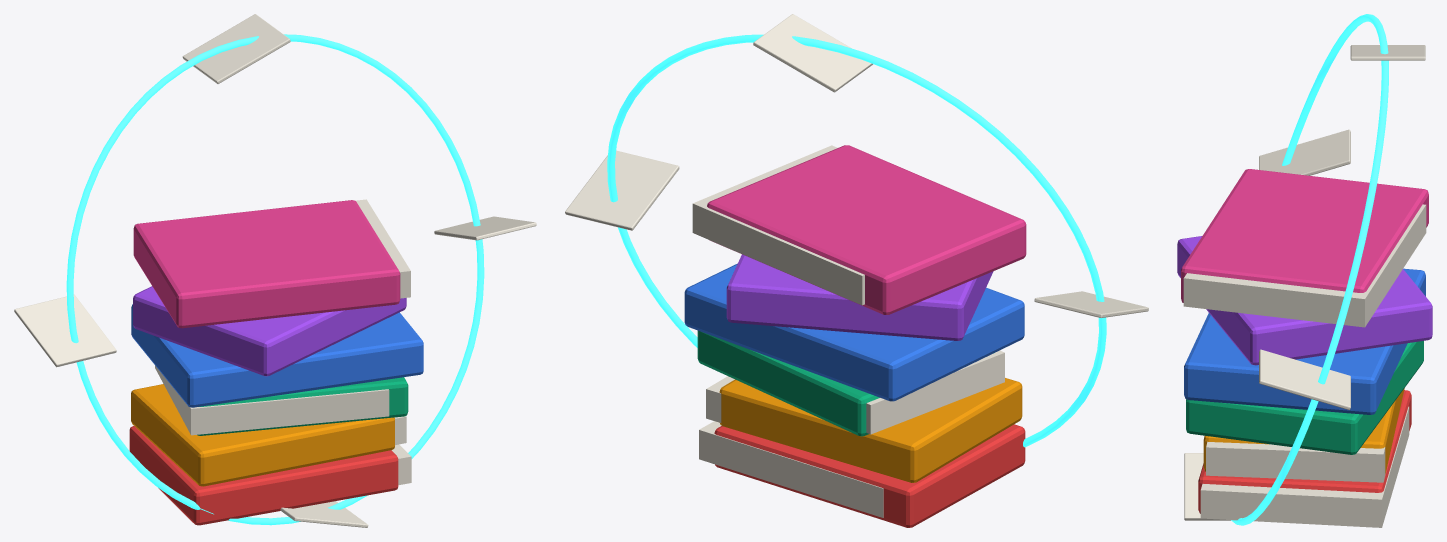
The model's file is ragg.glb.
3 renders of one model, left to right at view 1: azimuth 30°, elevation 25°; view 2: azimuth 150°, elevation 25°; view 3: azimuth 270°, elevation 25°, orthographic. The views are drawn at different scales.
Visible parts, largest first — view 1: Cube.010, Cube.006, Cube.002, Cube, Cube.008, Torus, Cube.005, Cube.014, Cube.013, Cube.004, Cube.012, Cube.015 (+1 smaller); view 2: Cube.010, Cube.006, Cube.002, Cube.008, Cube, Torus, Cube.004, Cube.011, Cube.001, Cube.012, Cube.005, Cube.013 (+2 smaller); view 3: Cube.010, Cube.006, Cube.008, Cube.011, Cube.004, Cube.001, Cube.003, Torus, Cube.012, Cube.014, Cube, Cube.002 (+2 smaller).
Boxes of the visible parts, bbox=[...] form: Cube.010: bbox=[133, 200, 400, 328]; Cube.006: bbox=[131, 304, 423, 407]; Cube.002: bbox=[131, 384, 394, 486]; Cube: bbox=[129, 426, 398, 525]; Cube.008: bbox=[133, 286, 406, 376]; Torus: bbox=[66, 34, 484, 525]; Cube.005: bbox=[155, 365, 389, 435]; Cube.014: bbox=[14, 294, 116, 367]; Cube.013: bbox=[182, 14, 290, 83]; Cube.004: bbox=[197, 377, 408, 435]; Cube.012: bbox=[434, 216, 536, 240]; Cube.015: bbox=[280, 501, 368, 527]; Cube.010: bbox=[707, 145, 1026, 314]; Cube.006: bbox=[684, 263, 1024, 401]; Cube.002: bbox=[719, 378, 1022, 482]; Cube.008: bbox=[726, 254, 993, 340]; Cube: bbox=[714, 424, 1025, 527]; Torus: bbox=[607, 34, 1106, 447]; Cube.004: bbox=[697, 330, 879, 436]; Cube.011: bbox=[692, 145, 864, 305]; Cube.001: bbox=[699, 421, 883, 517]; Cube.012: bbox=[565, 150, 679, 230]; Cube.005: bbox=[866, 350, 1004, 434]; Cube.013: bbox=[753, 14, 872, 92]; Cube.010: bbox=[1181, 169, 1428, 302]; Cube.006: bbox=[1184, 268, 1425, 414]; Cube.008: bbox=[1177, 236, 1432, 365]; Cube.011: bbox=[1183, 204, 1426, 327]; Cube.004: bbox=[1186, 341, 1423, 454]; Cube.001: bbox=[1200, 406, 1409, 527]; Cube.003: bbox=[1206, 441, 1385, 482]; Torus: bbox=[1231, 14, 1388, 525]; Cube.012: bbox=[1259, 349, 1350, 410]; Cube.014: bbox=[1259, 129, 1350, 175]; Cube: bbox=[1198, 390, 1411, 513]; Cube.002: bbox=[1203, 388, 1404, 473].
Bounding box in the file's own units: 2.86 × 2.46 × 1.23.
